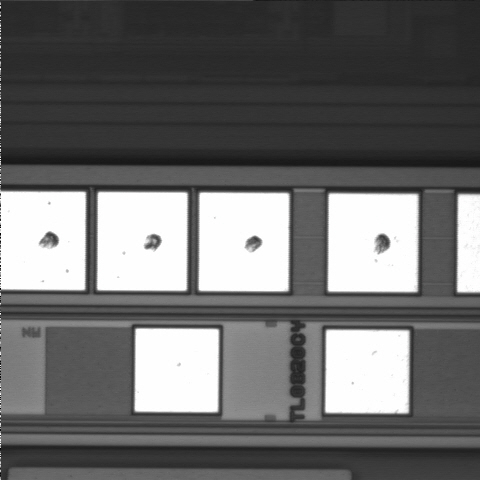pad: (97, 192, 187, 291), (199, 193, 289, 291), (328, 194, 418, 292), (135, 329, 219, 412), (325, 330, 409, 413)
